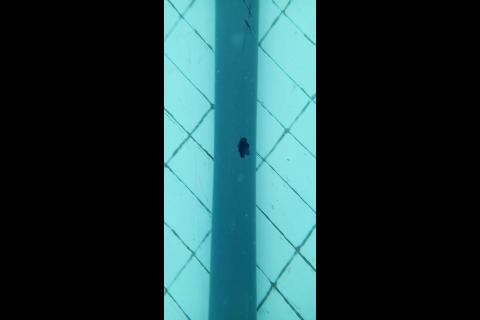kebocoran: (237, 136, 250, 159)
keretakan: (242, 0, 254, 50)
